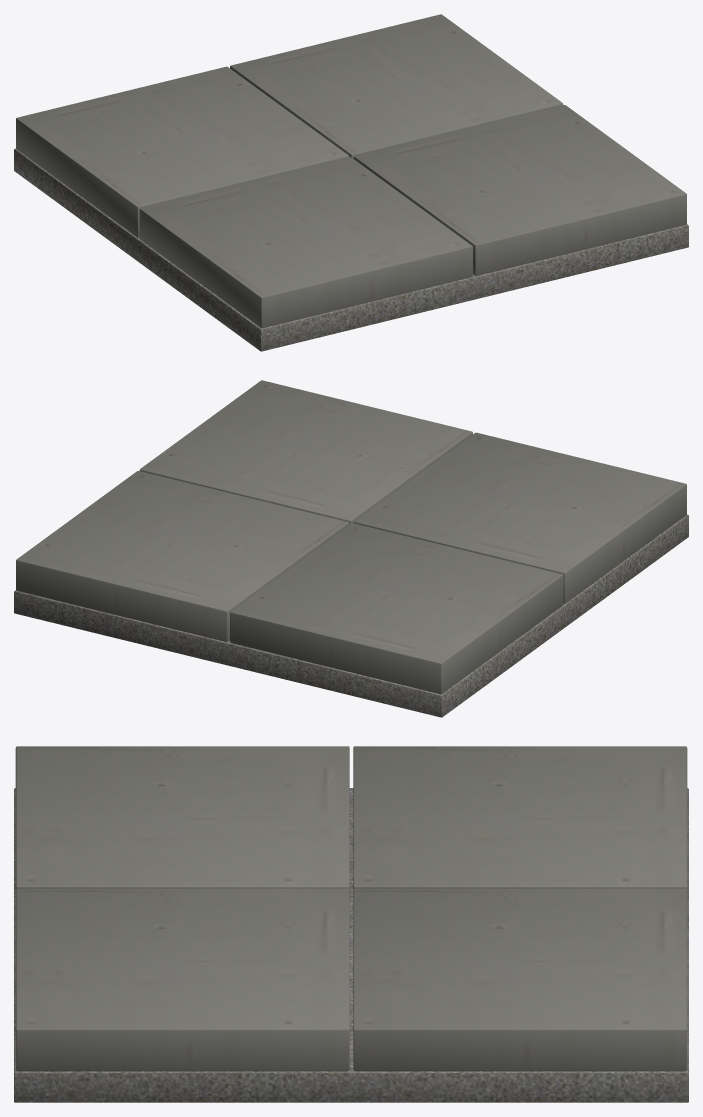
File: PAV-CAL-001_lod1.glb
3 views of the same model, one above another, from view 1: azimuth 30°, elevation 25°; view 2: azimuth 150°, elevation 25°; view 3: azimuth 270°, elevation 25° (orthographic). The views are drawn at different scales.
Visible parts, largest first — view 1: PAV-CAL-001_placa0, PAV-CAL-001_placa1, PAV-CAL-001_placa2, PAV-CAL-001_placa3, PAV-CAL-001_base; view 2: PAV-CAL-001_placa2, PAV-CAL-001_placa3, PAV-CAL-001_placa0, PAV-CAL-001_placa1, PAV-CAL-001_base; view 3: PAV-CAL-001_placa1, PAV-CAL-001_placa3, PAV-CAL-001_placa0, PAV-CAL-001_placa2, PAV-CAL-001_base.
Part boxes in pixels (box(x1,y1,x2,y2)): PAV-CAL-001_placa0: box(139, 157, 472, 328); PAV-CAL-001_placa1: box(353, 105, 686, 275); PAV-CAL-001_placa2: box(16, 66, 348, 237); PAV-CAL-001_placa3: box(230, 14, 563, 158); PAV-CAL-001_base: box(14, 148, 688, 351); PAV-CAL-001_placa2: box(230, 523, 563, 694); PAV-CAL-001_placa3: box(16, 471, 349, 641); PAV-CAL-001_placa0: box(354, 432, 686, 603); PAV-CAL-001_placa1: box(139, 380, 472, 524); PAV-CAL-001_base: box(14, 514, 688, 717); PAV-CAL-001_placa1: box(15, 888, 349, 1071); PAV-CAL-001_placa3: box(353, 888, 687, 1071); PAV-CAL-001_placa0: box(15, 746, 349, 889); PAV-CAL-001_placa2: box(353, 746, 687, 889); PAV-CAL-001_base: box(14, 788, 688, 1102).
Bounding box in the file's own units: 1 × 0.12 × 1.
2 materials, 2 textured.
